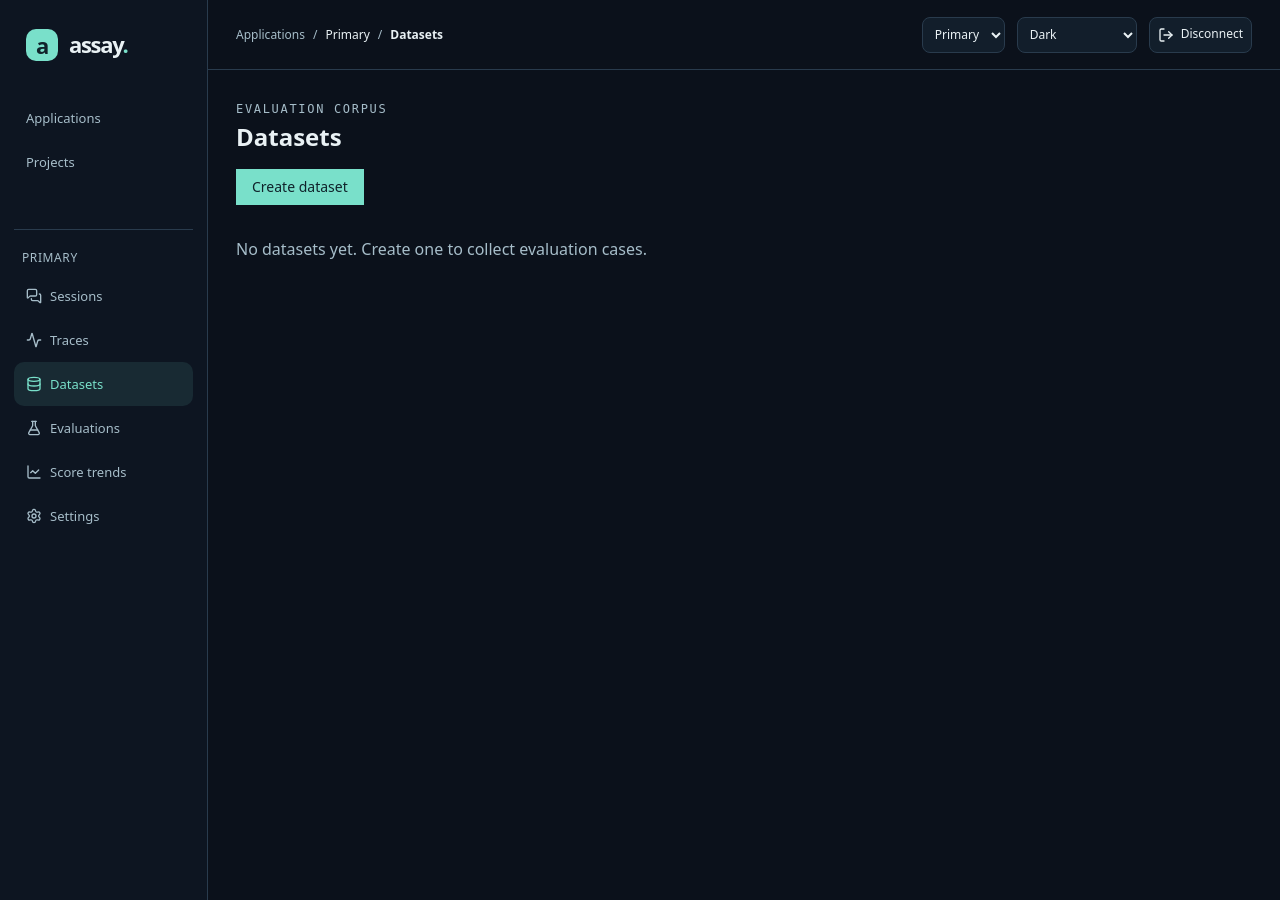
it: creates a dataset in the selected application and opens it
Step 1. Click the button "Create dataset" → (300, 187), box x1=236 y1=169 x2=364 y2=205
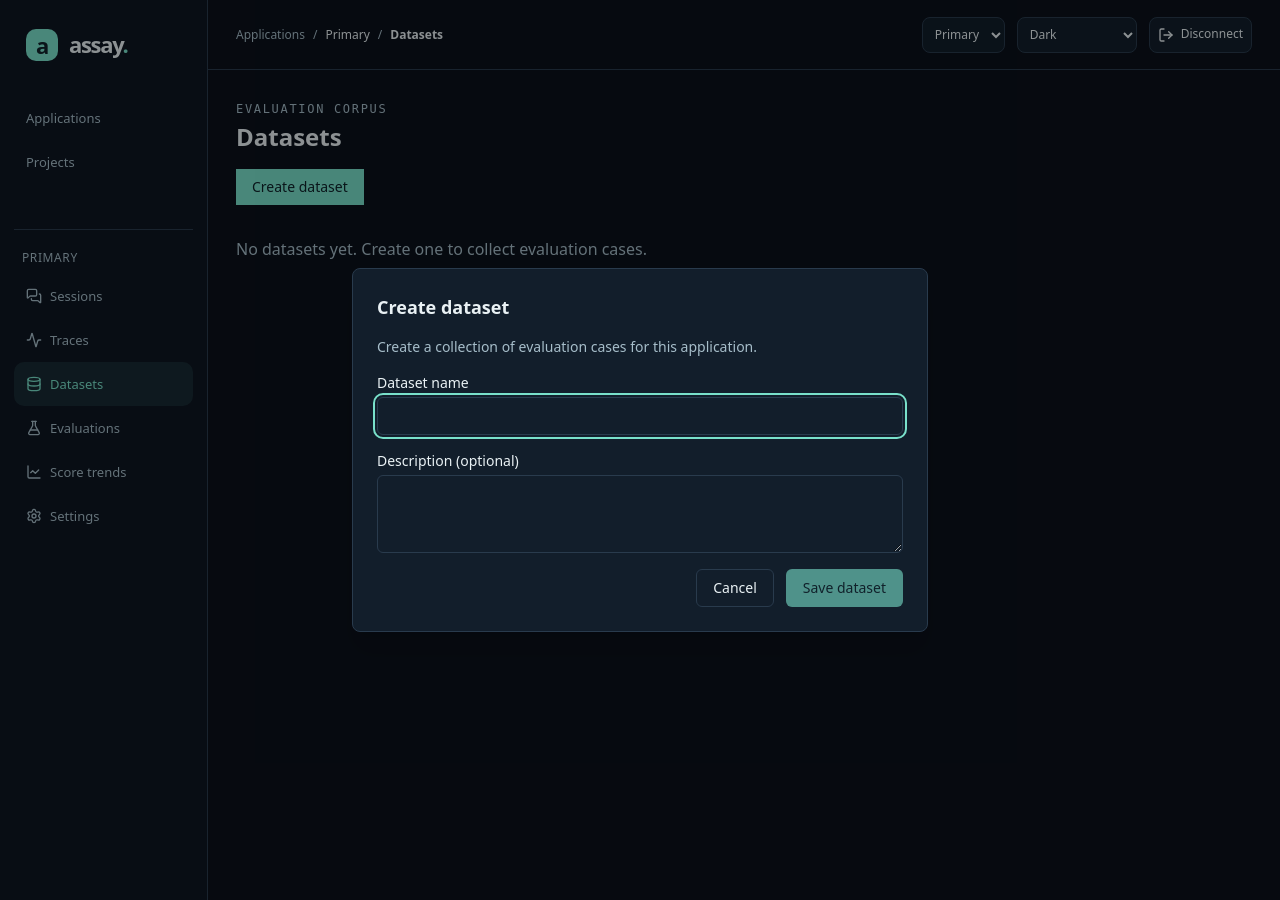
Now the button "Save dataset" is disabled, box x1=786 y1=569 x2=903 y2=607
Step 2. Type "  Regression cases  " into the field labelled "Dataset name" → (640, 416), box x1=377 y1=397 x2=903 y2=435
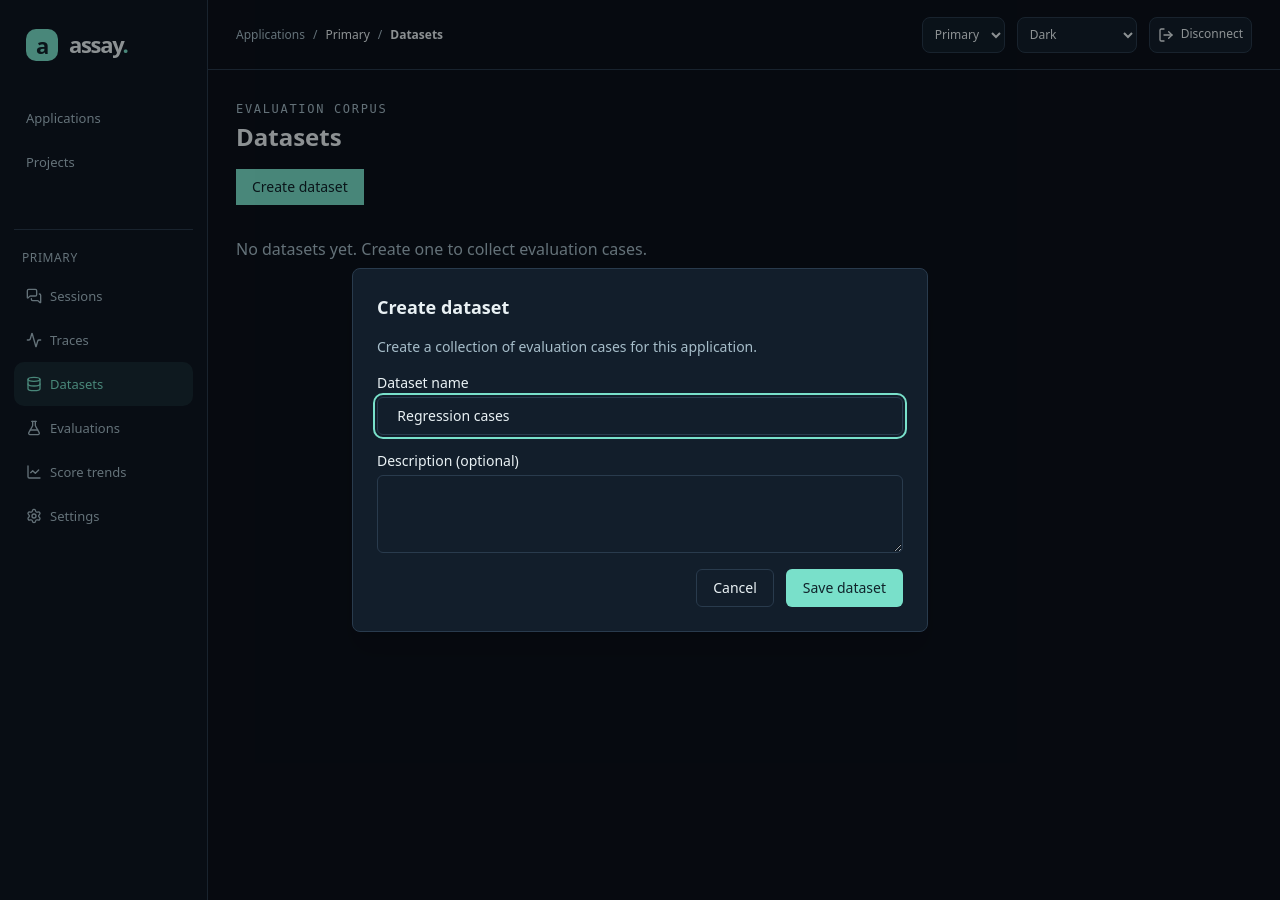
Step 3. Type "Chat checks" into the text box labelled "Description (optional)" → (640, 514), box x1=377 y1=475 x2=903 y2=553
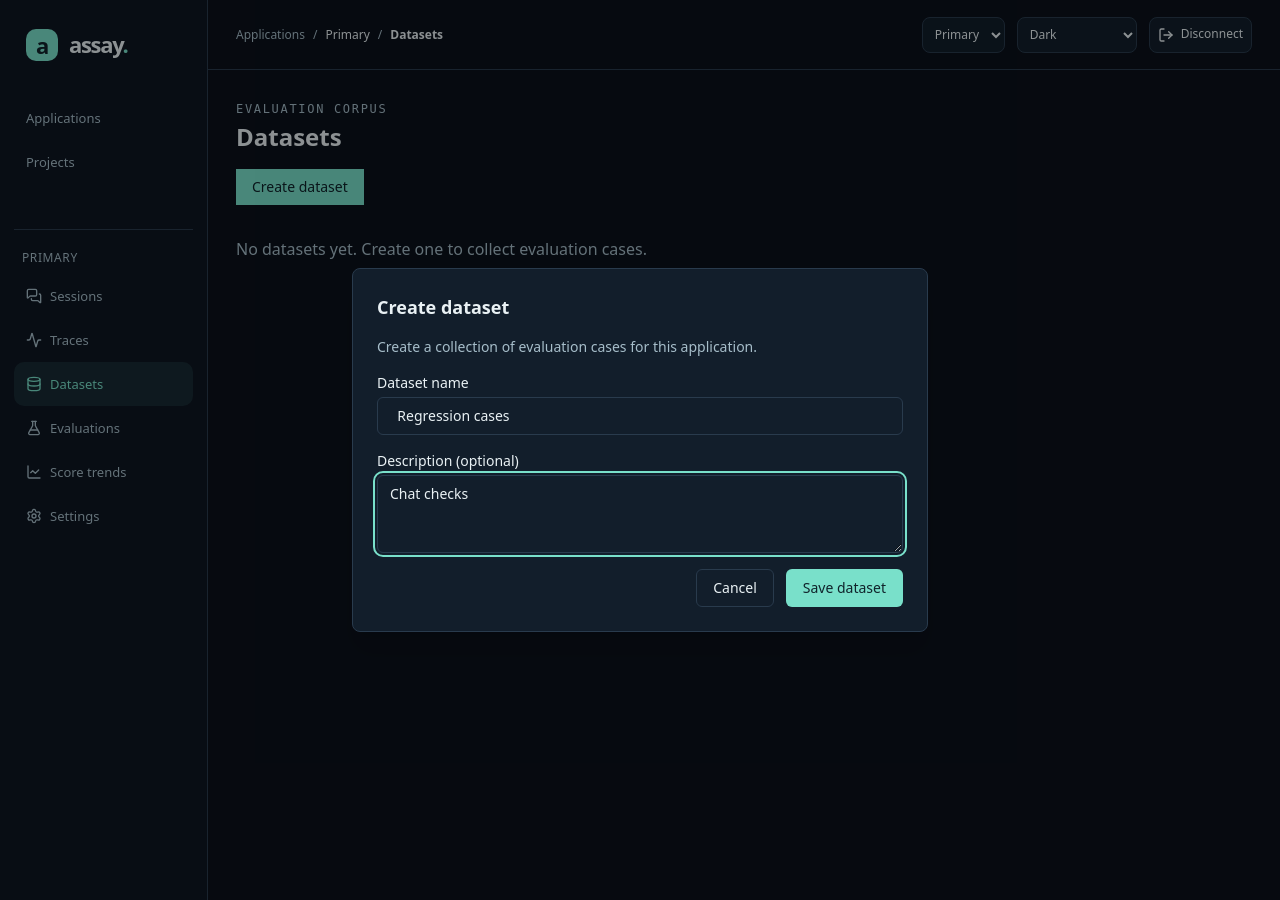
Step 4. Click the button "Save dataset" → (844, 588), box x1=786 y1=569 x2=903 y2=607
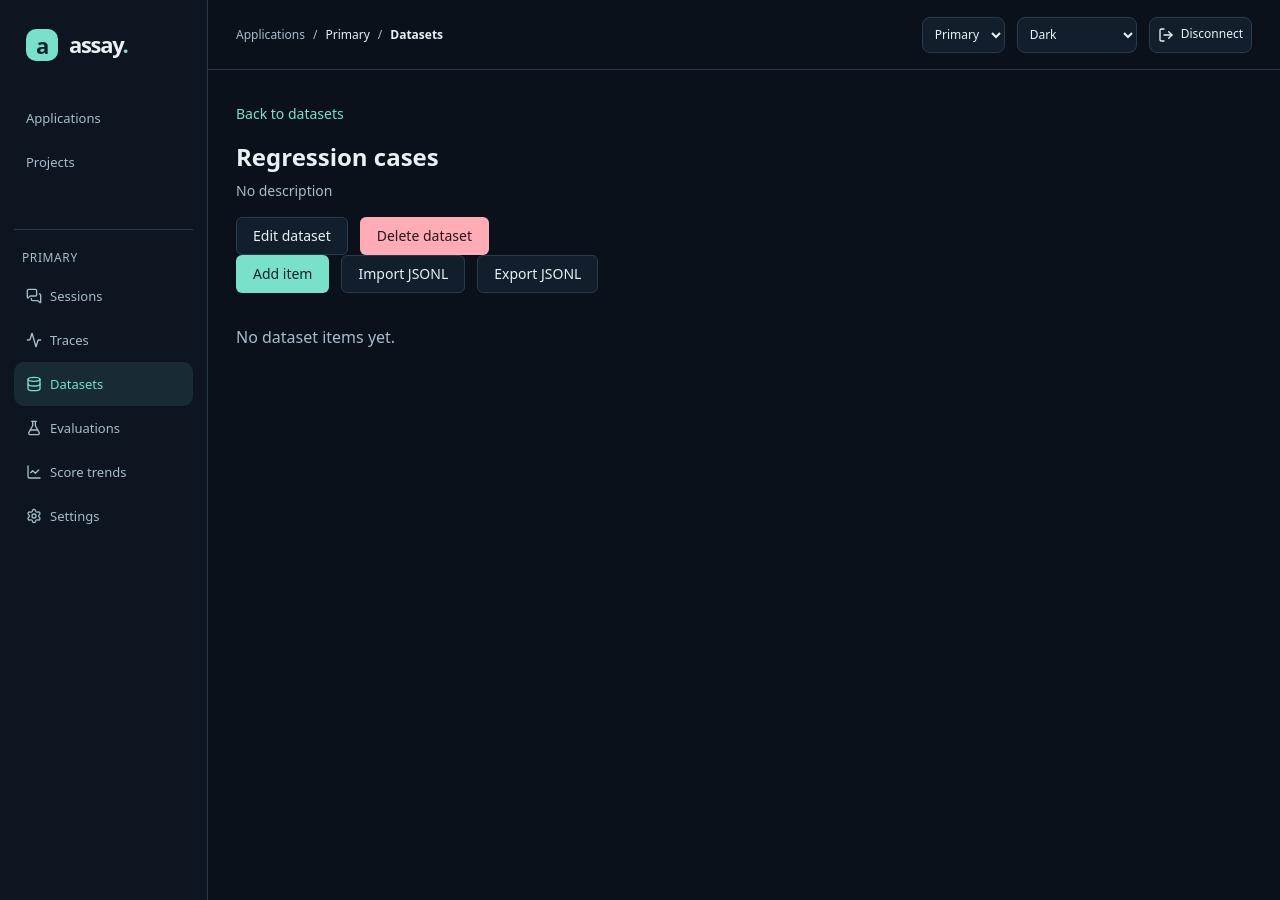
Now the heading "Regression cases" is shown, box x1=236 y1=140 x2=439 y2=173
